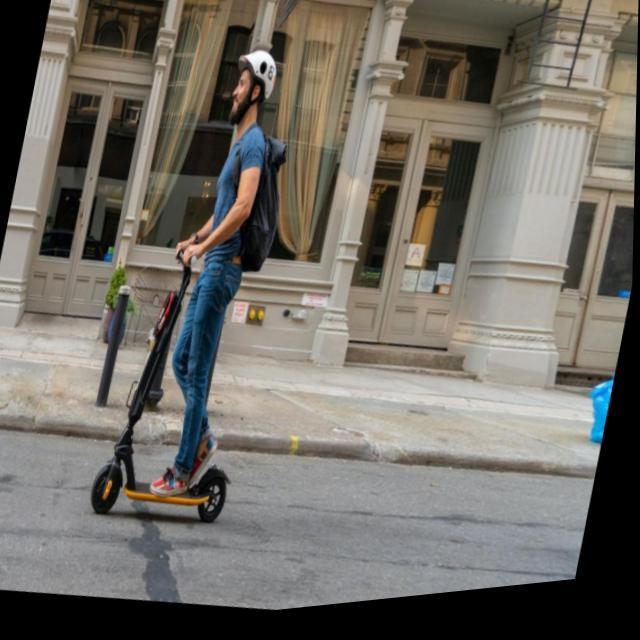Helmet: (219, 47, 278, 131)
